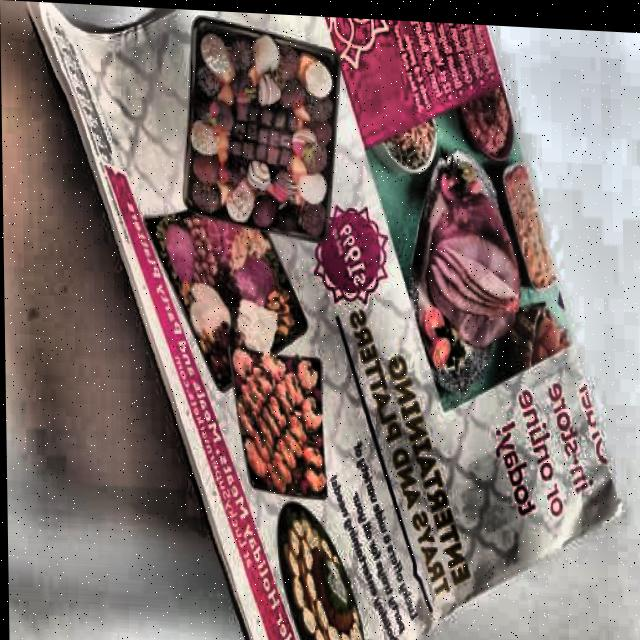paper: (23, 1, 622, 640)
